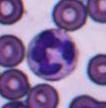N: (27, 28, 78, 81)
